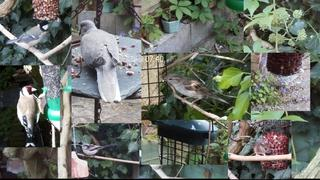collared dove: (78, 20, 121, 103)
goldfinch: (17, 85, 40, 147)
great tit: (5, 20, 52, 54)
long tailed tit: (80, 143, 119, 158)
mouse: (241, 140, 272, 162)
sparrow: (161, 73, 231, 110)
